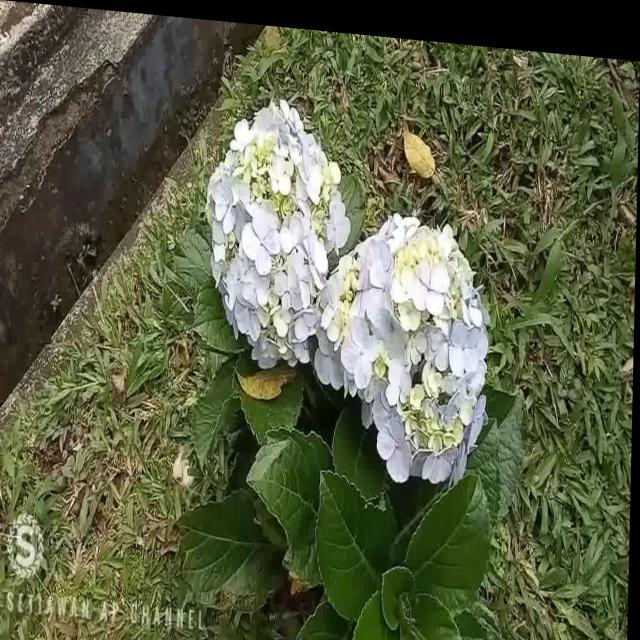Flower: (318, 189, 490, 474), (203, 84, 348, 368)
